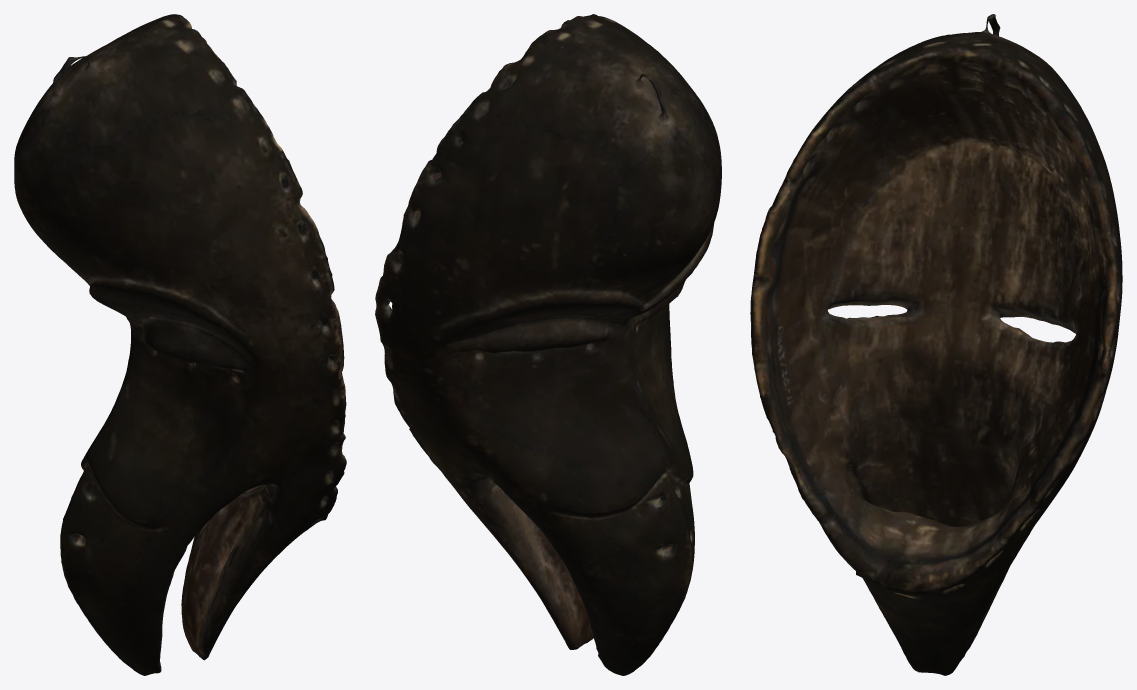
Rendered from preview.glb.
3 renders of one model, left to right at view 1: azimuth 30°, elevation 25°; view 2: azimuth 150°, elevation 25°; view 3: azimuth 270°, elevation 25°, orthographic. The views are drawn at different scales.
Visible parts, largest first — view 1: Object_2; view 2: Object_2; view 3: Object_2.
Part boxes in pixels (x1=…): Object_2: x1=14, y1=14, x2=346, y2=675; Object_2: x1=375, y1=14, x2=721, y2=675; Object_2: x1=750, y1=14, x2=1122, y2=675.
Bounding box in the file's own units: 182 × 401 × 211.
Materials: 1 (1 with a texture image).
